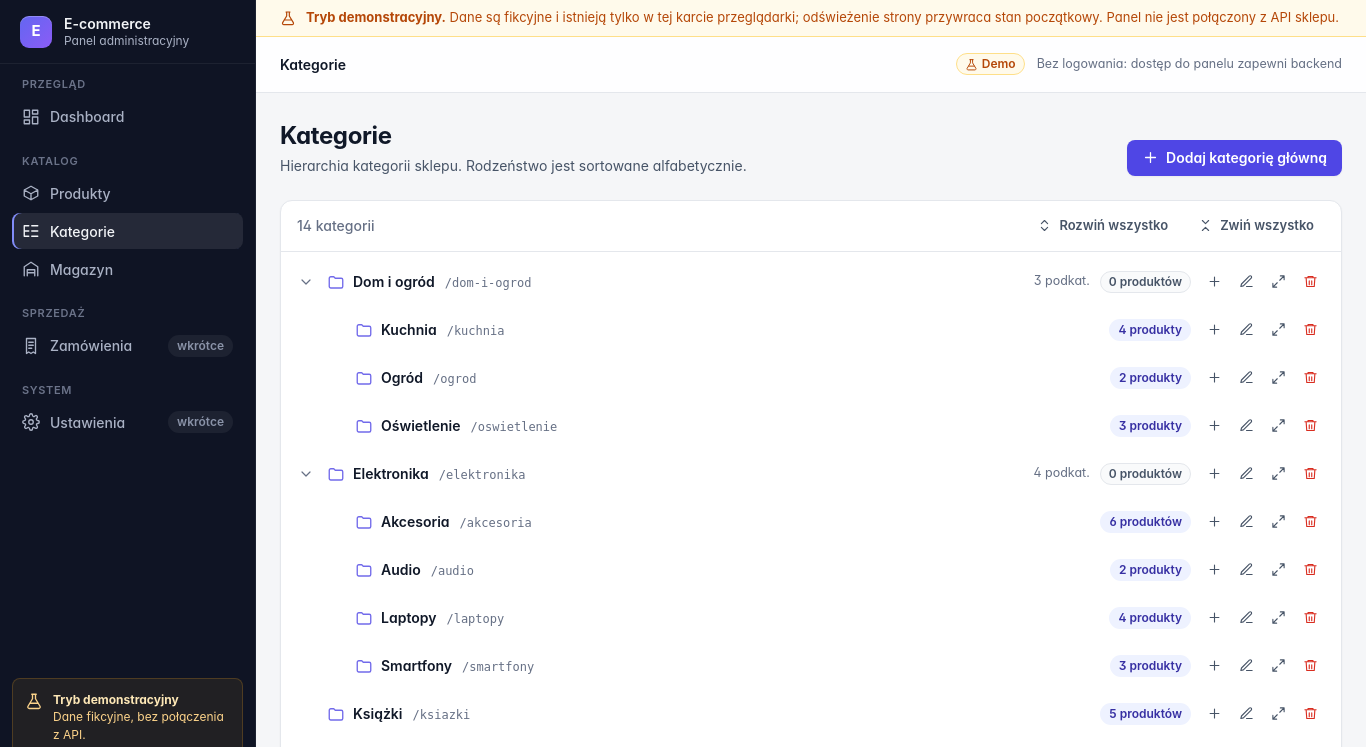
Test: CategoriesPage › collapses and expands branches
Expected: the text "Laptopy" is shown, left=381, top=607, right=436, bottom=628
Click the button named "Zwiń Elektronika" at (306, 474), box left=293, top=460, right=319, bottom=486
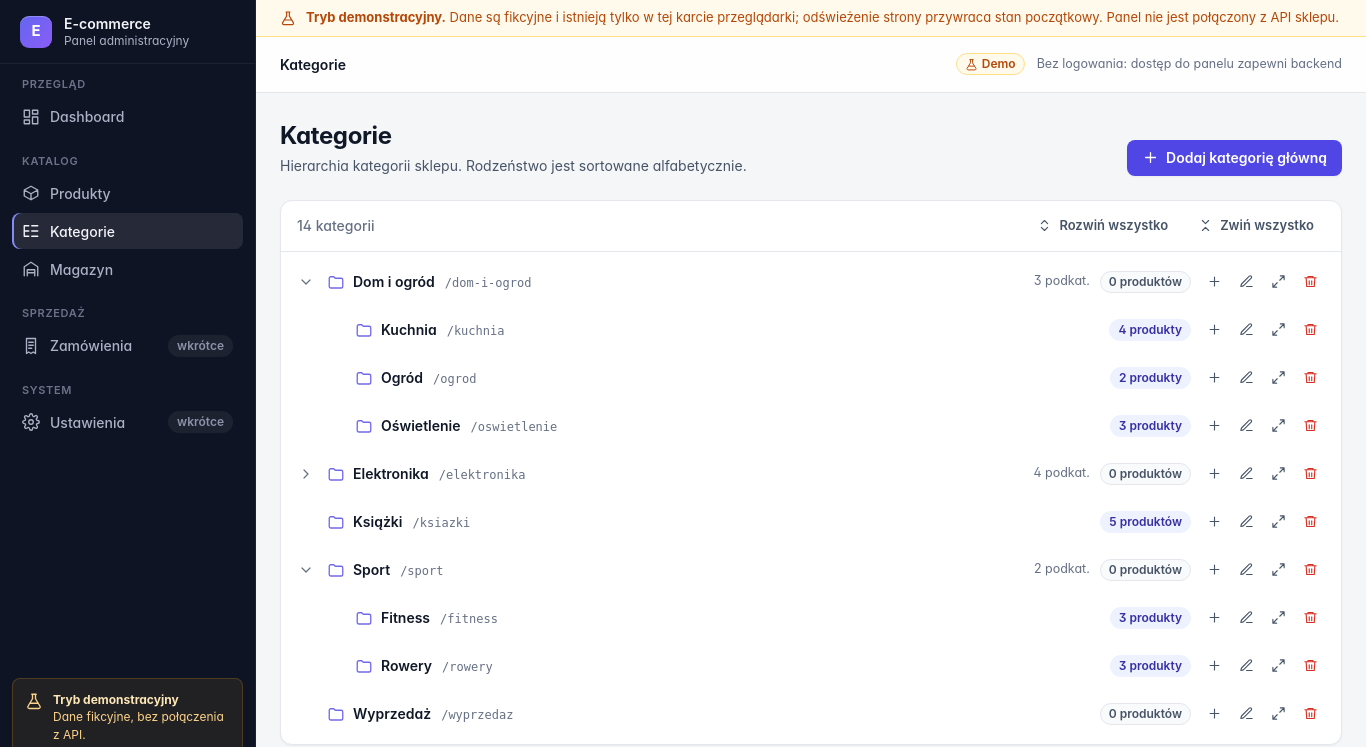
Result: the text "Laptopy" is gone
Result: the button named "Rozwiń Elektronika" is collapsed at left=293, top=460, right=319, bottom=486
